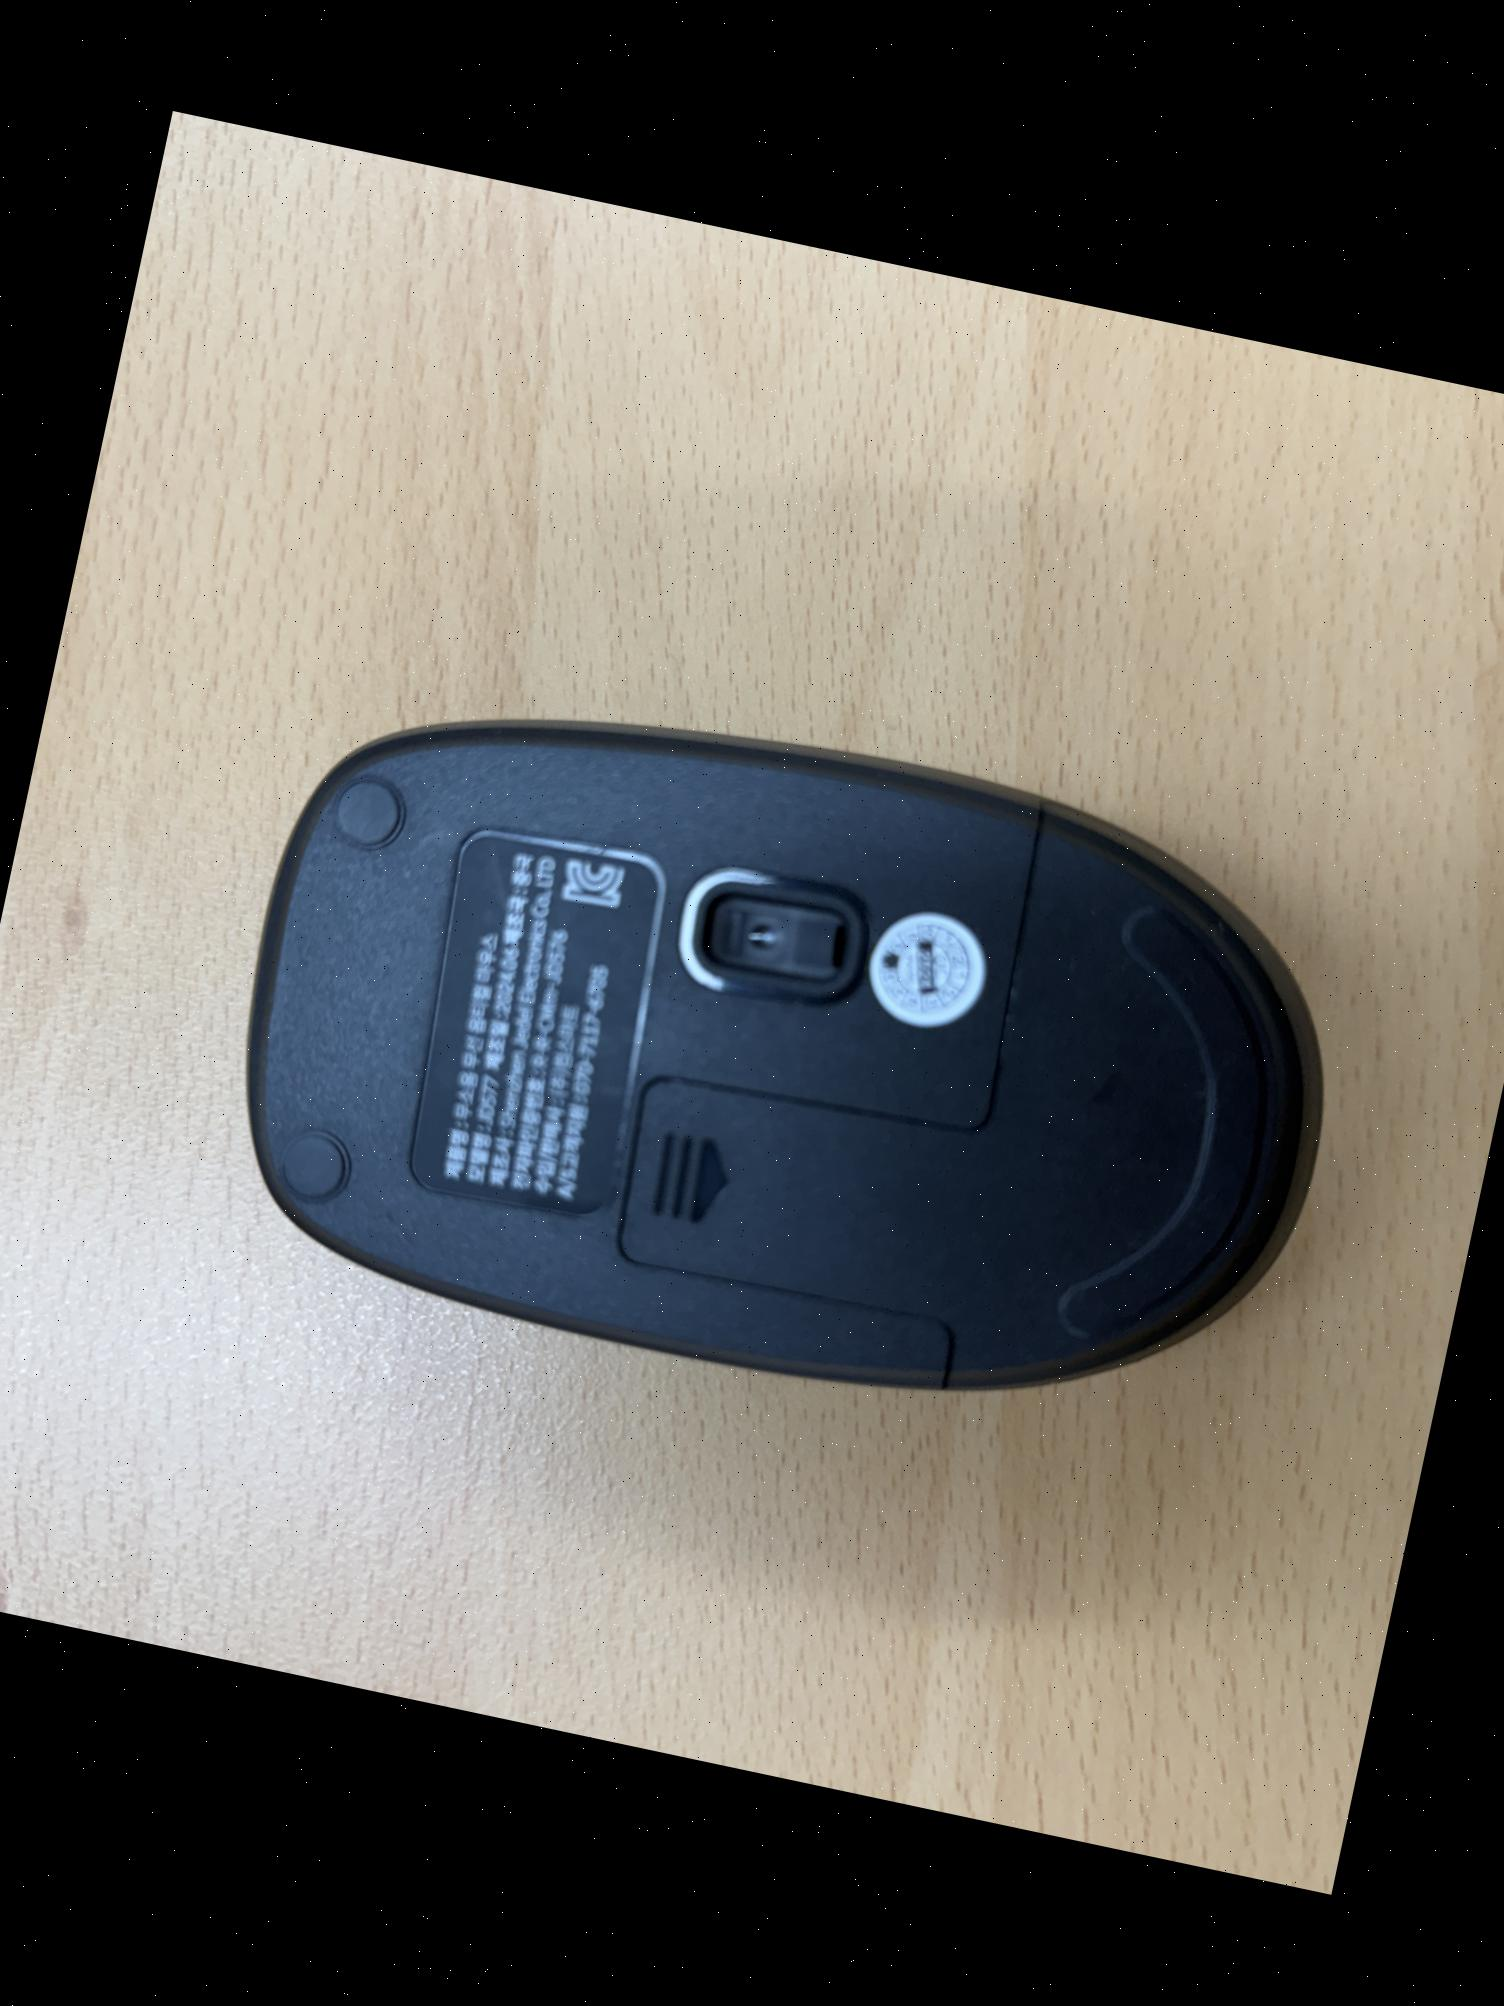back: (188, 632, 1384, 1491)
